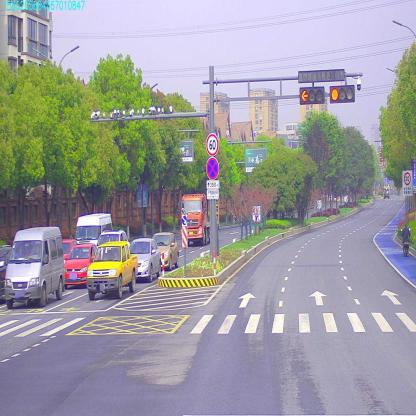traffic-light: (332, 83, 355, 103), (300, 92, 324, 103)
